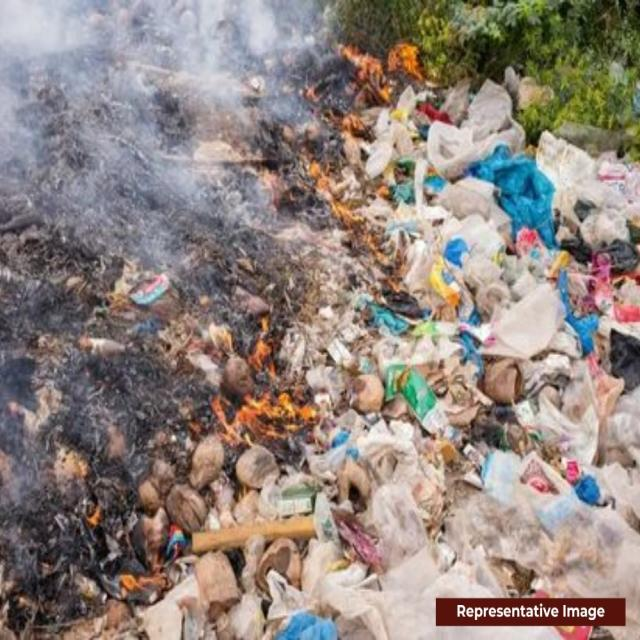fire: (294, 158, 407, 295), (209, 388, 321, 447), (303, 83, 369, 142), (336, 43, 389, 108), (246, 317, 283, 387), (388, 42, 438, 86)
